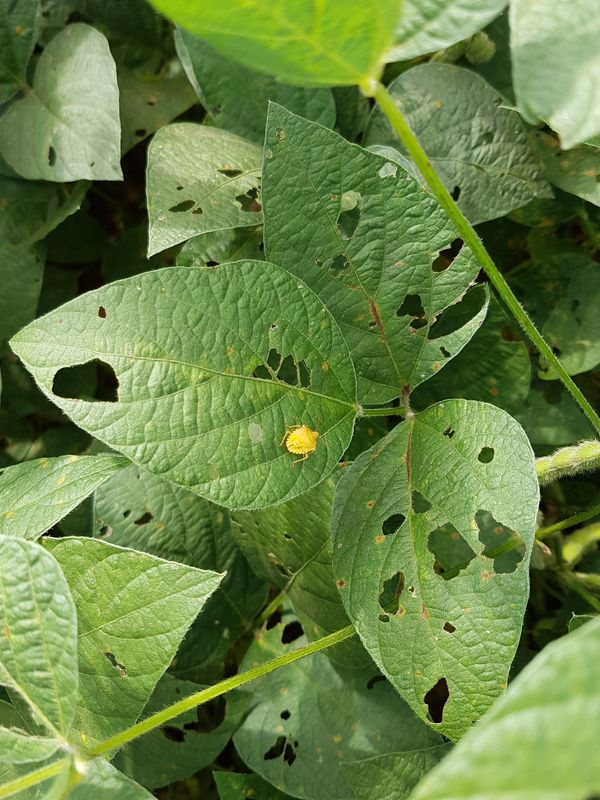Euschistus_heros_ninfa: (271, 416, 330, 472)
